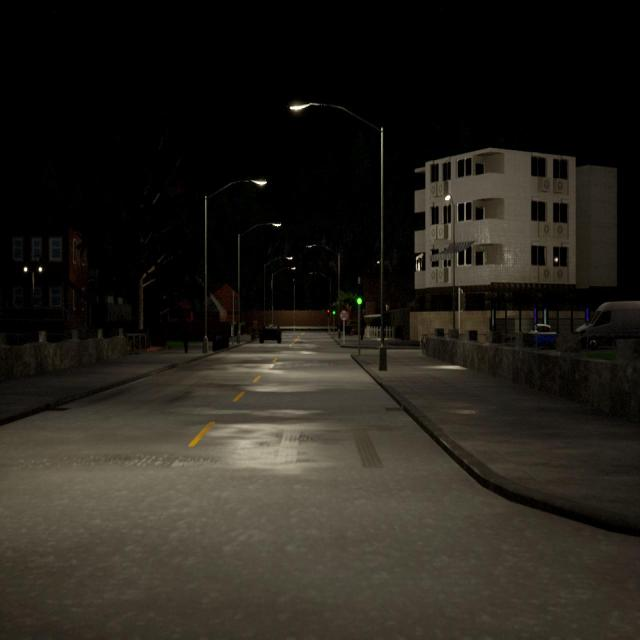Pedestrian: (358, 312, 369, 342)
Traffic_Signs: (338, 308, 350, 324)
Vehicle: (574, 298, 640, 357), (521, 324, 559, 351), (257, 320, 284, 347)
traffic_light: (356, 282, 364, 311), (458, 289, 466, 313), (326, 306, 330, 316), (332, 306, 336, 316)
